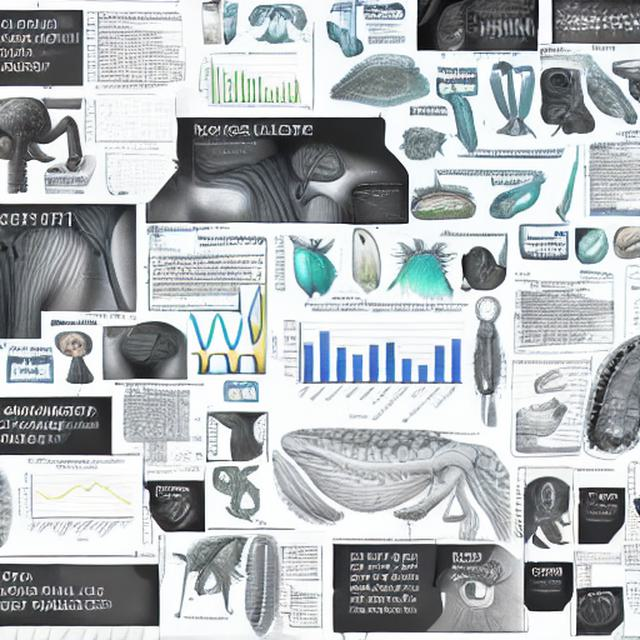Graph: (271, 300, 472, 426), (12, 458, 140, 546), (197, 50, 300, 112), (82, 90, 173, 151), (468, 9, 538, 51), (349, 190, 409, 225)
